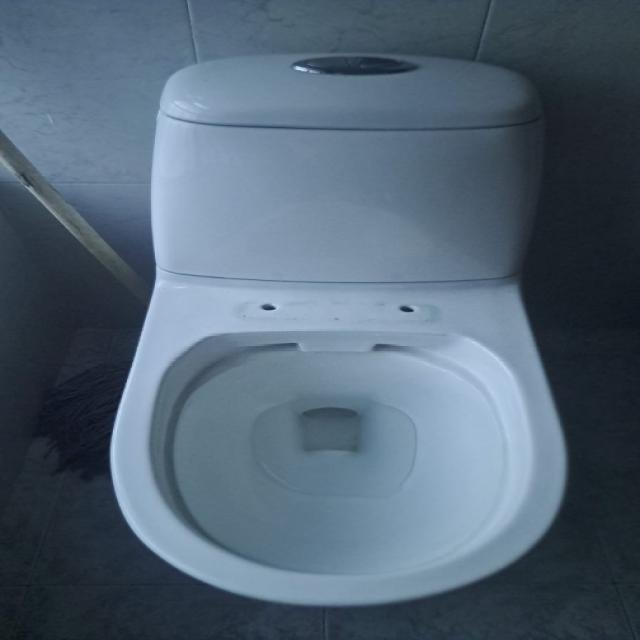toilet: (108, 52, 569, 607)
